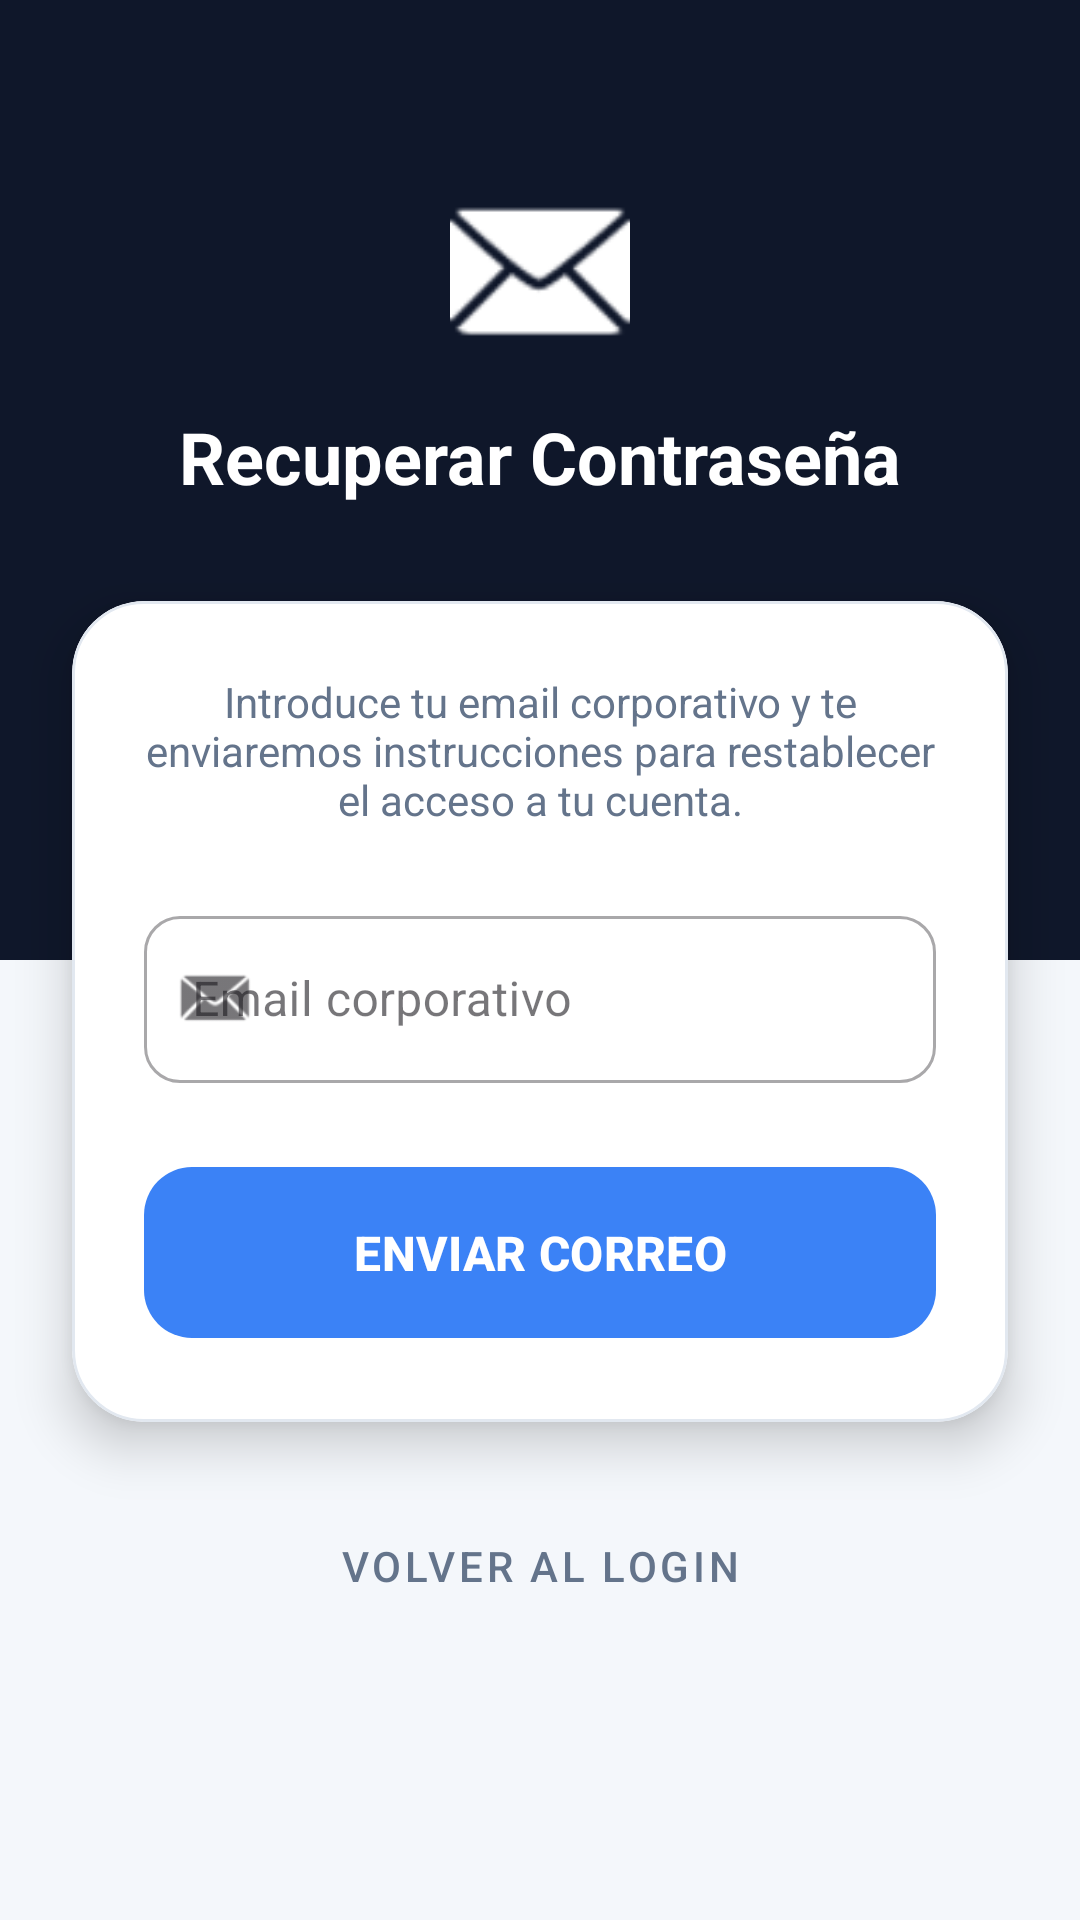

Point at icon controls on the screen. Image size 1080px×1920px, points as point (x, y).
email: point (540, 272)
